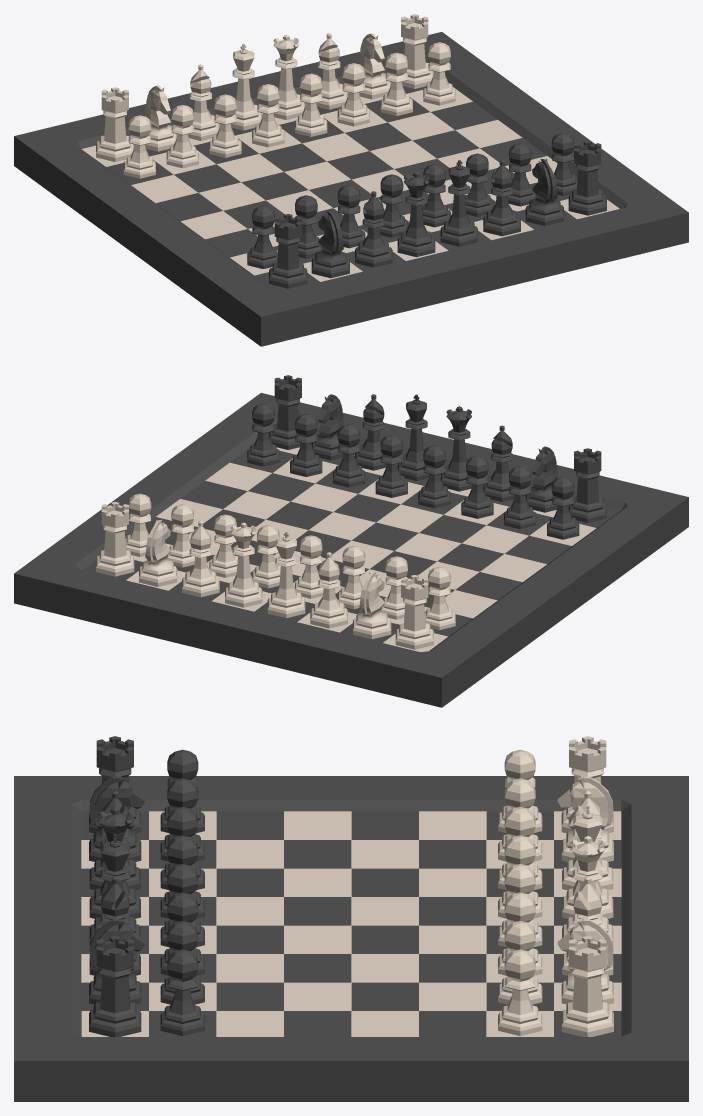
3 renders of one model, top to bottom at view 1: azimuth 30°, elevation 25°; view 2: azimuth 150°, elevation 25°; view 3: azimuth 270°, elevation 25°, orthographic. The views are drawn at different scales.
Visible parts, largest first — view 1: Board, Rook.002, Rook.003, Rook.001, Queen.001, King.001, Rook, Knight.003, Knight.002, Bishop.003, Bishop.002, Queen (+21 smaller); view 2: Board, Rook, Rook.001, Rook.003, Queen, King, Rook.002, Knight.001, Knight, Bishop.001, Bishop, Queen.001 (+21 smaller); view 3: Board, Rook, Rook.002, Pawn, Pawn.008, Knight.001, Knight.003, Rook.001, Rook.003, Knight, Knight.002, Queen.001 (+21 smaller).
Boxes of the visible parts, box(x1,y1,x2,y2) form: Board: box(14, 32, 688, 346); Rook.002: box(568, 140, 606, 215); Rook.003: box(269, 214, 307, 288); Rook.001: box(96, 87, 134, 161); Queen.001: box(397, 172, 435, 257); King.001: box(440, 160, 477, 246); Rook: box(401, 14, 433, 88); Knight.003: box(311, 211, 349, 278); Knight.002: box(525, 158, 563, 225); Bishop.003: box(355, 191, 392, 267); Bishop.002: box(483, 160, 520, 236); Queen: box(273, 35, 305, 119); Board: box(14, 393, 688, 707); Rook: box(96, 501, 134, 576); Rook.001: box(395, 575, 433, 649); Rook.003: box(568, 448, 606, 522); Queen: box(225, 522, 262, 607); King: box(267, 531, 305, 618); Rook.002: box(269, 375, 301, 449); Knight.001: box(353, 572, 391, 639); Knight: box(139, 519, 177, 586); Bishop.001: box(310, 552, 347, 628); Bishop: box(182, 521, 219, 597); Queen.001: box(440, 406, 471, 491); Board: box(14, 776, 688, 1101); Rook: box(561, 936, 613, 1036); Rook.002: box(89, 936, 141, 1036); Pawn: box(498, 949, 542, 1035); Pawn.008: box(160, 949, 204, 1035); Knight.001: box(557, 776, 613, 861); Knight.003: box(89, 776, 145, 861); Rook.001: box(561, 736, 613, 833); Rook.003: box(89, 736, 141, 833); Knight: box(557, 918, 613, 1004); Knight.002: box(89, 918, 145, 1004); Queen.001: box(89, 807, 140, 918).
Bounding box in the file's own units: 10 × 2.27 × 10.
